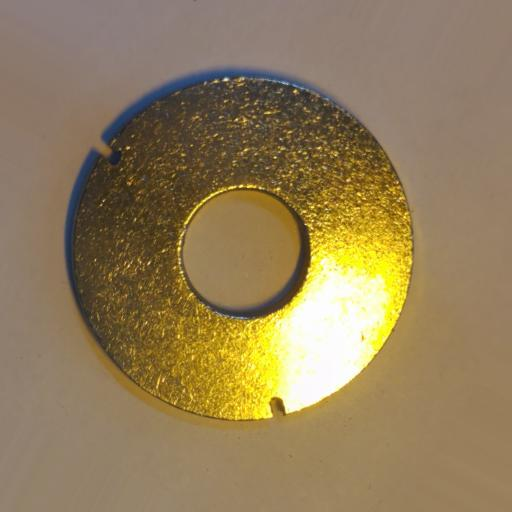burr: (100, 144, 123, 166), (267, 397, 288, 417)
